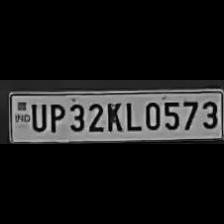0: (141, 98, 161, 130)
2: (86, 100, 104, 132)
3: (198, 98, 218, 130), (65, 100, 84, 132)
5: (160, 98, 180, 132)
7: (180, 98, 196, 130)
K: (104, 100, 124, 132)
L: (124, 99, 140, 131)
P: (46, 100, 64, 134)
U: (28, 100, 46, 132)
